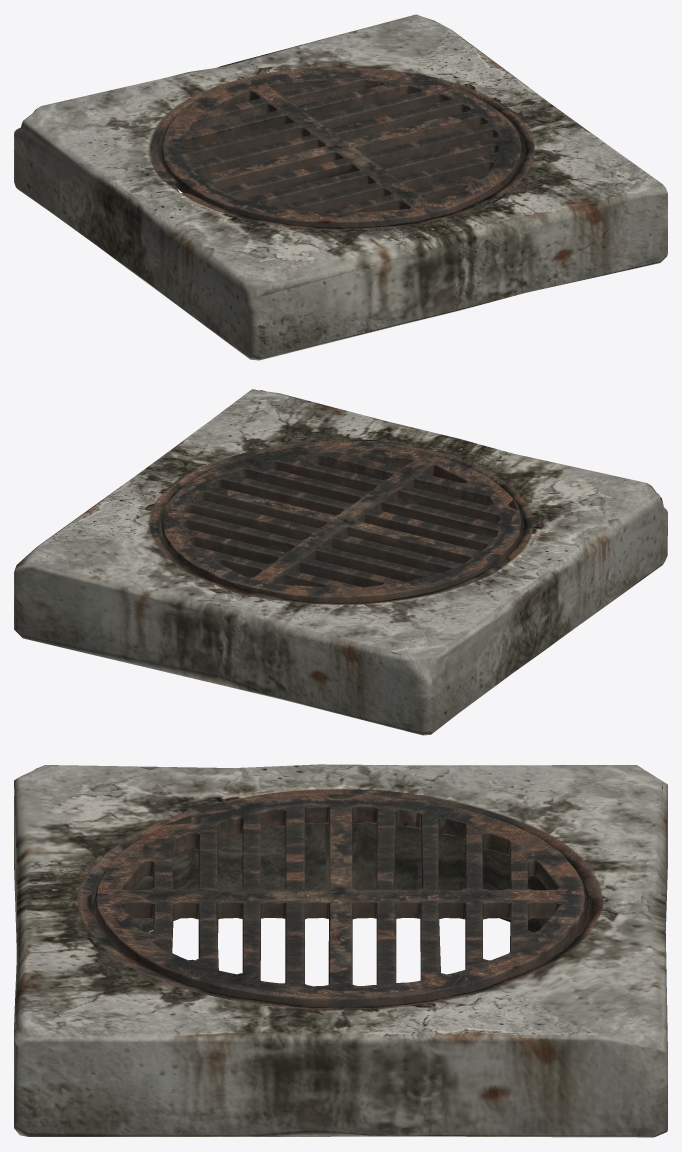
Rendered from silo81_floor_drain.glb.
The picture shows the model from 3 angles, top to bottom: view 1: azimuth 30°, elevation 25°; view 2: azimuth 150°, elevation 25°; view 3: azimuth 270°, elevation 25°; orthographic projection. The views are drawn at different scales.
Bounding box in the file's own units: 0.9551 × 0.1733 × 0.957.
Materials: 1 (1 with a texture image).
